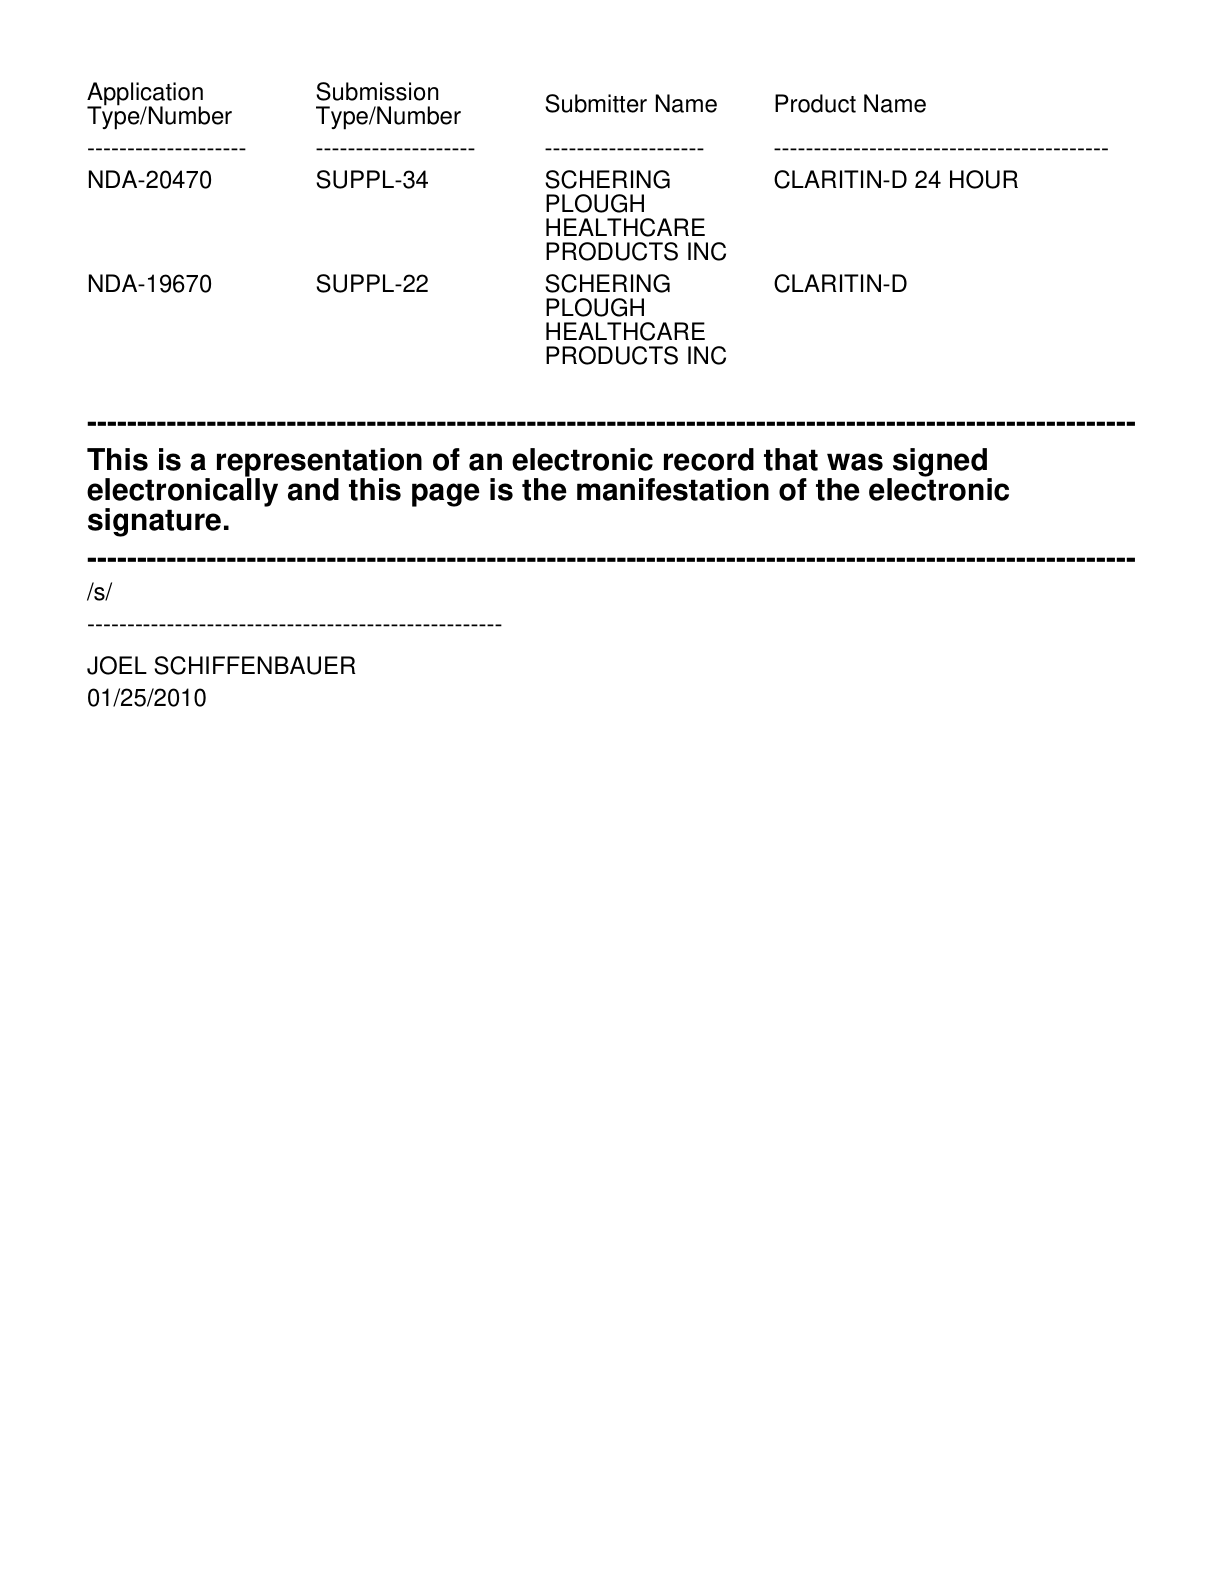nolines: (84, 78, 1111, 366)
